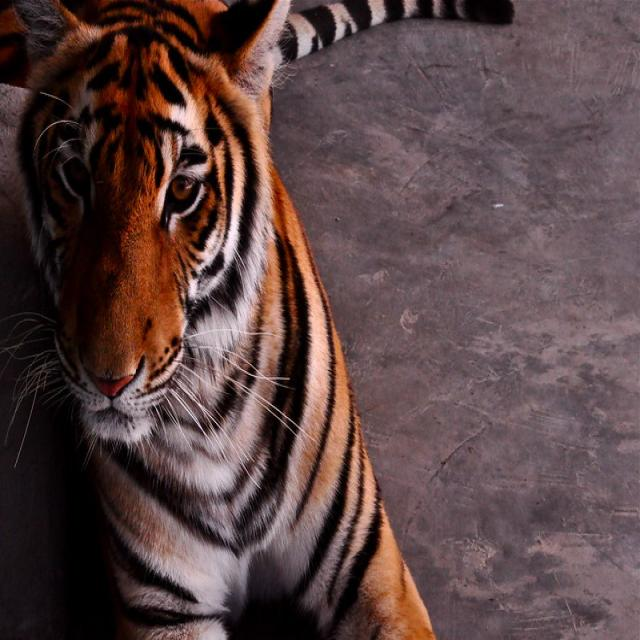Tiger: (2, 0, 517, 638)
